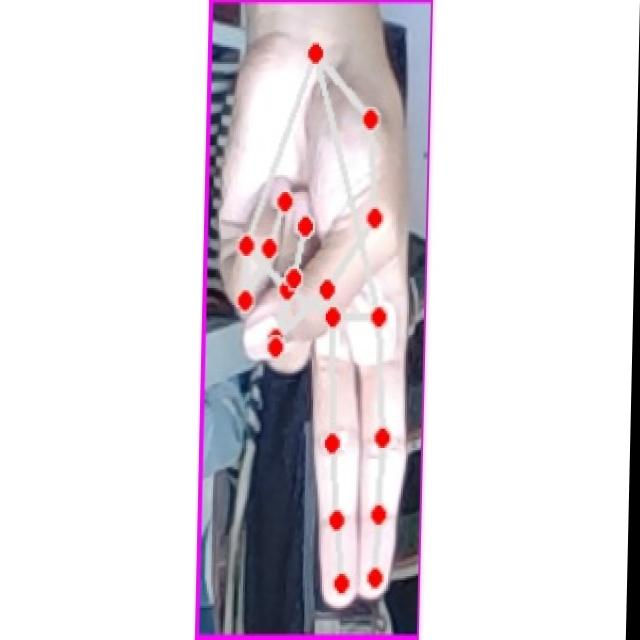U: (208, 24, 417, 613)
